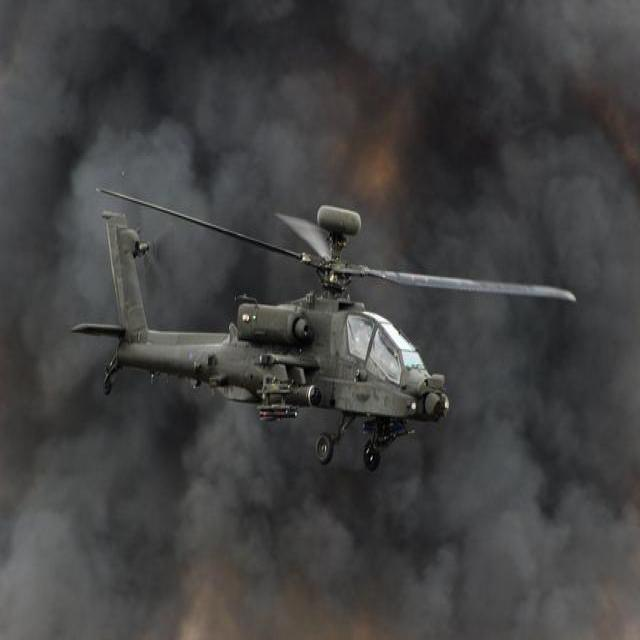MIL_HELO: (72, 165, 581, 468)
